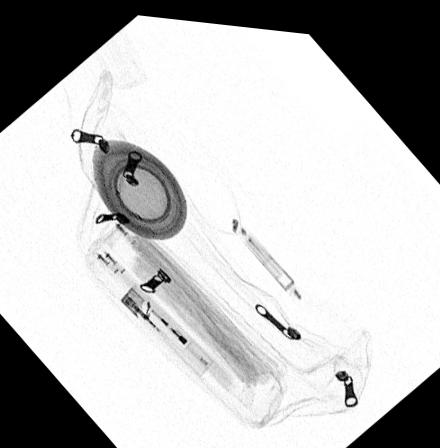Lighter: (119, 278, 215, 371), (230, 211, 295, 285)
